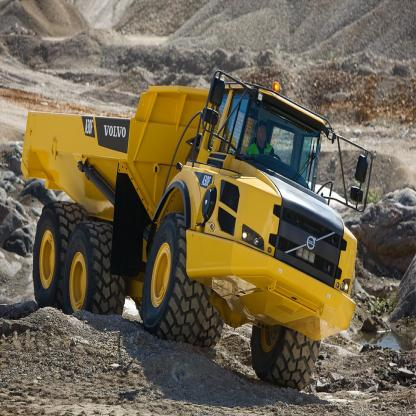dump_truck: (18, 68, 368, 393)
